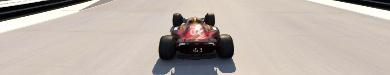Car: (157, 12, 234, 60)
